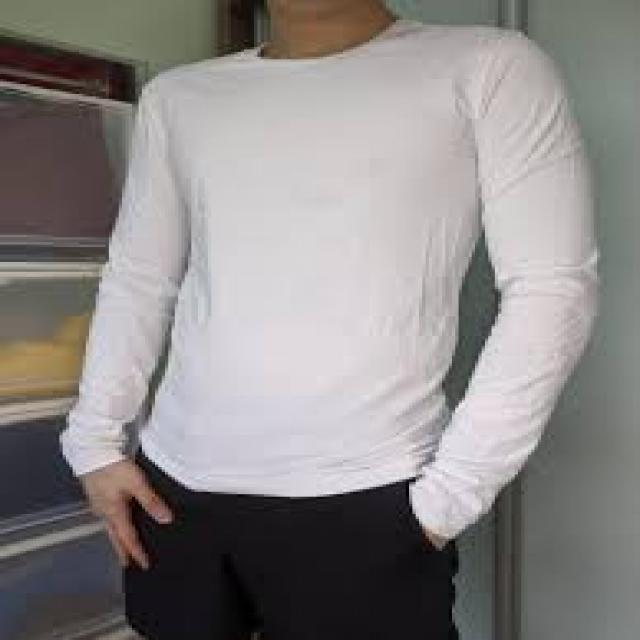plain: (68, 21, 611, 527)
